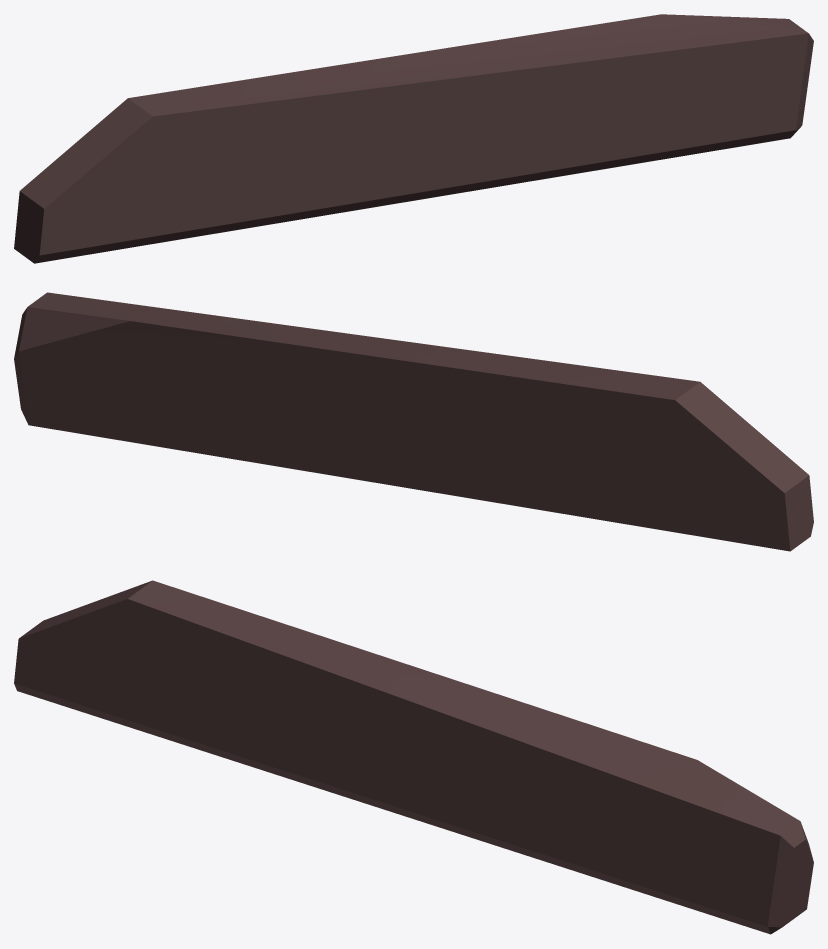
Rendered from prop_57.FBX.
3 renders of one model, top to bottom at view 1: azimuth 30°, elevation 25°; view 2: azimuth 150°, elevation 25°; view 3: azimuth 330°, elevation 25°, orthographic.
Parts seen in each view (by area): view 1: prop_57; view 2: prop_57; view 3: prop_57.
Part boxes in pixels (x1=…): prop_57: x1=14, y1=14, x2=813, y2=263; prop_57: x1=14, y1=292, x2=813, y2=551; prop_57: x1=14, y1=580, x2=813, y2=934.
Bounding box in the file's own units: 25.64 × 5.62 × 1.87.
